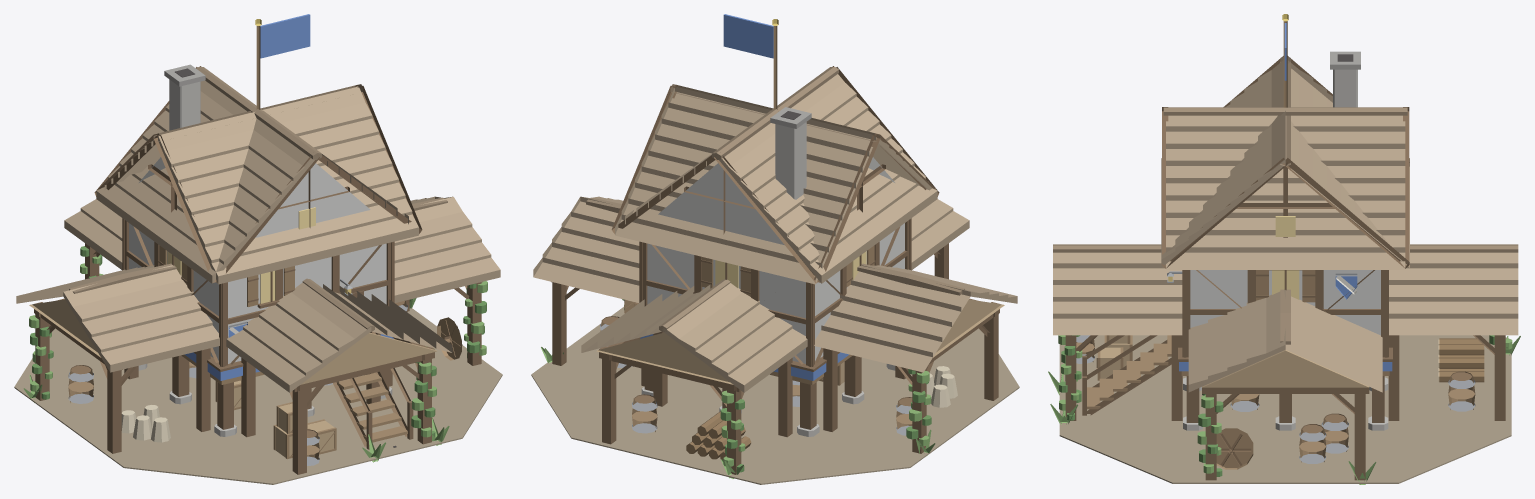
File: town_center.glb
3 renders of one model, left to right at view 1: azimuth 30°, elevation 25°; view 2: azimuth 150°, elevation 25°; view 3: azimuth 270°, elevation 25°, orthographic. The views are drawn at different scales.
Parts seen in each view (by area): view 1: Ground, Walls, Roof, Roof#9, Gable#2, Roof#28, Roof#8, Roof#2, Roof#7, Canopy.Roof#31, Canopy.Gable, Canopy.Roof#11 (+55 smaller); view 2: Ground, Walls, Roof#19, Gable#2, Roof#28, Roof#26, Canopy.Roof#36, Canopy.Gable#3, Canopy.Roof#16, Roof#25, Chimney, Canopy.Roof#37 (+54 smaller); view 3: Ground, Roof#10, Walls, Roof#17, Roof#11, Canopy.Gable#2, Roof#12, Roof#16, Canopy.Roof, Canopy.Roof#21, Roof#14, Roof#15 (+53 smaller).
Boxes of the visible parts, box(x1,y1,x2,y2) form: Ground: box(14, 308, 502, 484); Walls: box(129, 223, 386, 363); Roof: box(211, 214, 418, 284); Roof#9: box(158, 86, 365, 155); Gable#2: box(255, 163, 370, 237); Roof#28: box(96, 185, 223, 283); Roof#8: box(164, 102, 372, 171); Roof#2: box(205, 198, 412, 267); Roof#7: box(171, 118, 378, 187); Canopy.Roof#31: box(101, 325, 219, 372); Canopy.Gable: box(300, 332, 437, 384); Canopy.Roof#11: box(394, 257, 500, 302); Ground: box(531, 307, 1019, 484); Walls: box(647, 223, 904, 363); Roof#19: box(615, 214, 822, 284); Gable#2: box(658, 163, 784, 244); Roof#28: box(810, 185, 937, 283); Roof#26: box(661, 102, 869, 171); Canopy.Roof#36: box(814, 325, 932, 372); Canopy.Gable#3: box(596, 332, 733, 384); Canopy.Roof#16: box(533, 257, 639, 302); Roof#25: box(655, 118, 862, 187); Chimney: box(775, 122, 806, 199); Canopy.Roof#37: box(824, 310, 942, 356); Ground: box(1059, 335, 1511, 483); Roof#10: box(1166, 247, 1405, 269); Walls: box(1190, 270, 1380, 335); Roof#17: box(1166, 126, 1405, 143); Roof#11: box(1166, 230, 1405, 247); Canopy.Gable#2: box(1202, 349, 1369, 387); Roof#12: box(1166, 212, 1405, 229); Roof#16: box(1166, 143, 1405, 160); Canopy.Roof: box(1053, 313, 1182, 335); Canopy.Roof#21: box(1389, 313, 1518, 335); Roof#14: box(1166, 178, 1405, 195); Roof#15: box(1166, 160, 1405, 177).
Bounding box in the file's own units: 10.42 × 9.17 × 10.47.
